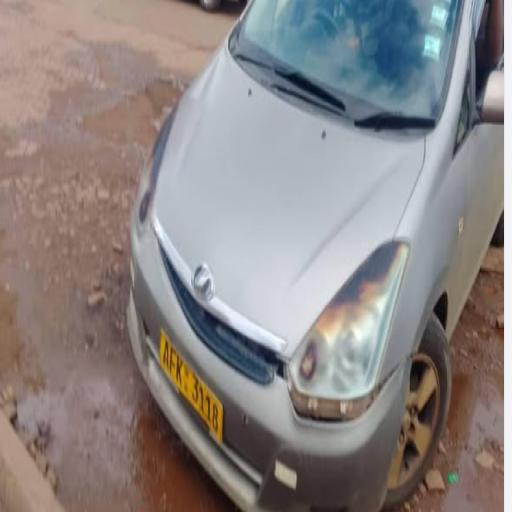number-plates: (161, 326, 223, 444)
